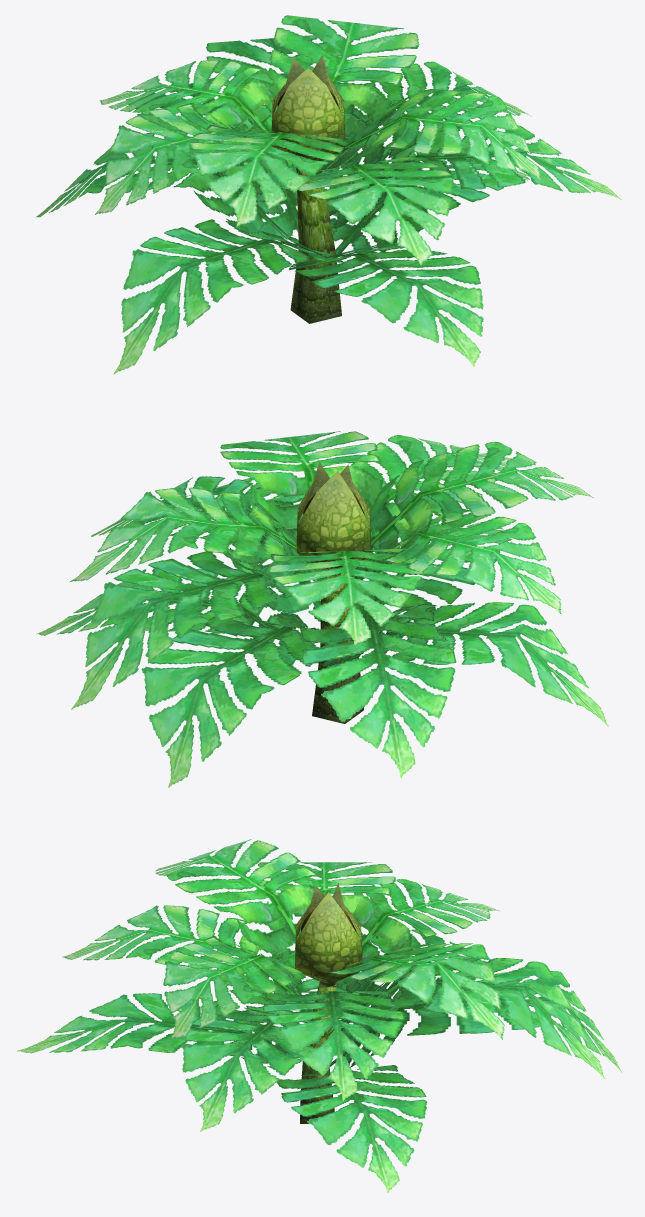
Rendered from nml-bd115.glb.
The picture shows the model from 3 angles, top to bottom: view 1: azimuth 30°, elevation 25°; view 2: azimuth 150°, elevation 25°; view 3: azimuth 270°, elevation 25°; orthographic projection. The views are drawn at different scales.
Parts seen in each view (by area): view 1: geom_node_0; view 2: geom_node_0; view 3: geom_node_0.
Part boxes in pixels (box(x1,y1,x2,y2)): geom_node_0: box(35, 15, 621, 374); geom_node_0: box(36, 431, 608, 787); geom_node_0: box(17, 839, 621, 1192).
Size of the model in its own units: 5.34 by 2.4 by 5.84.
1 material, 1 textured.
